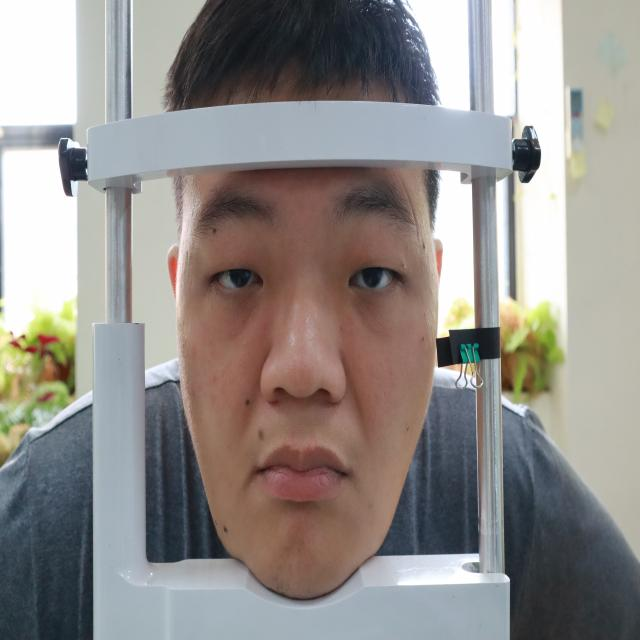eye: (206, 252, 269, 309), (344, 252, 409, 305)
gaze: (228, 264, 251, 291), (361, 262, 384, 288)
